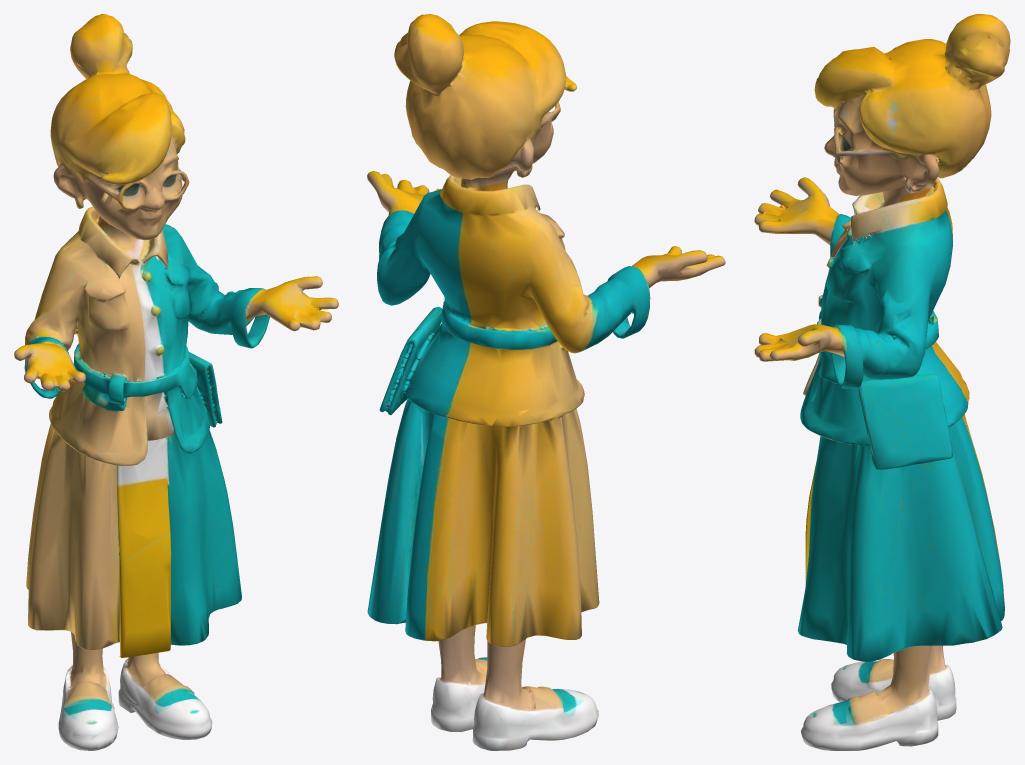
File: npc_phrase_vendor.glb
3 views of the same model, side by side, from view 1: azimuth 30°, elevation 25°; view 2: azimuth 150°, elevation 25°; view 3: azimuth 270°, elevation 25° (orthographic). The views are drawn at different scales.
Parts seen in each view (by area): view 1: Mesh_0; view 2: Mesh_0; view 3: Mesh_0.
Boxes of the visible parts, box(x1,y1,x2,y2) form: Mesh_0: box(14, 14, 338, 750); Mesh_0: box(367, 14, 725, 750); Mesh_0: box(754, 14, 1010, 750).
Size of the model in its own units: 0.8897 by 1.8 by 0.5811.
1 material, 1 textured.
